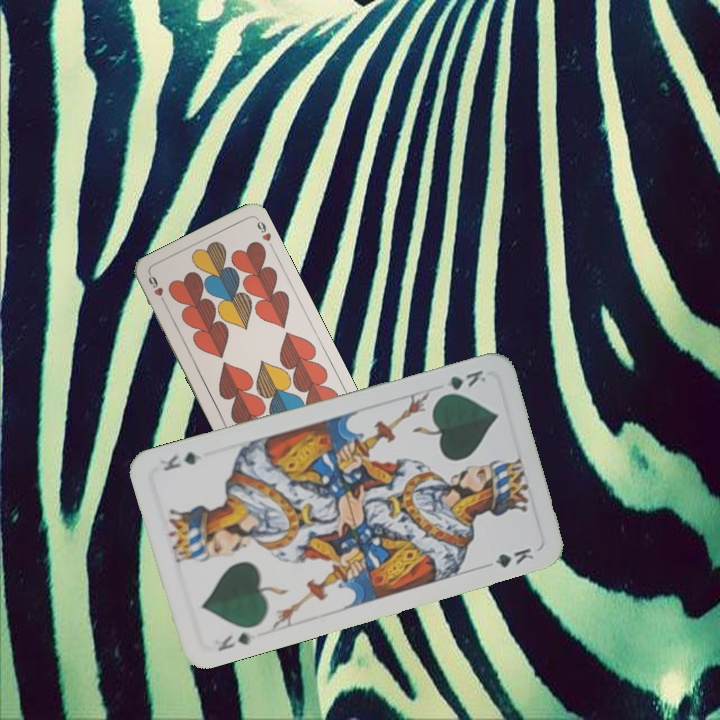GK: (435, 366, 489, 400), (214, 628, 253, 654)
H9: (144, 270, 169, 308)
